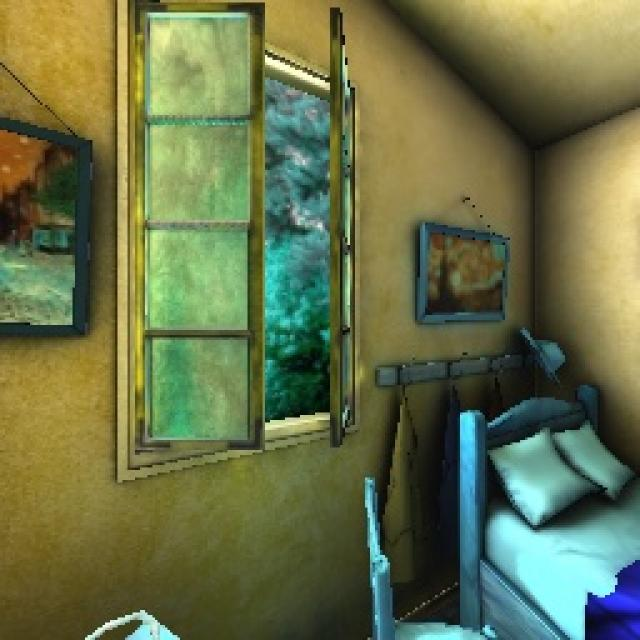bed: (416, 379, 640, 640)
